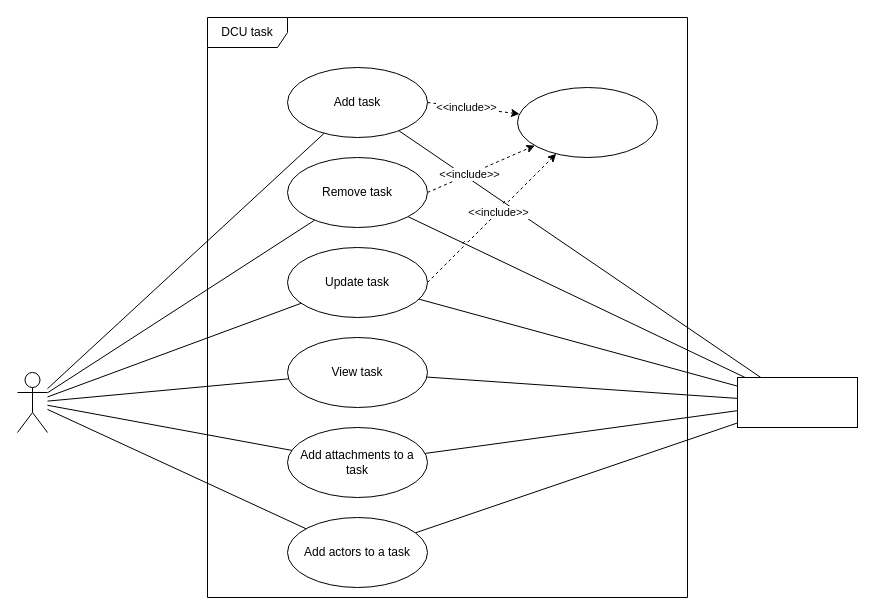
Some shapes in this 875 by 615 pixel diagram are drawn without their labels. Each missing label, with the centre of its shape:
"Actor" goes at [32,402].
"Respect task rules" goes at [587,122].
"«actor» database" goes at [797,402].
